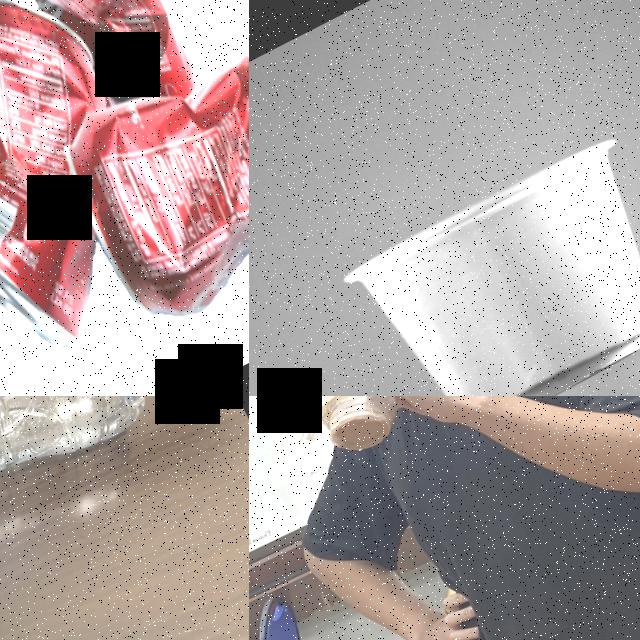bottle: (0, 396, 196, 640)
cup: (333, 127, 640, 396), (288, 396, 455, 465)
